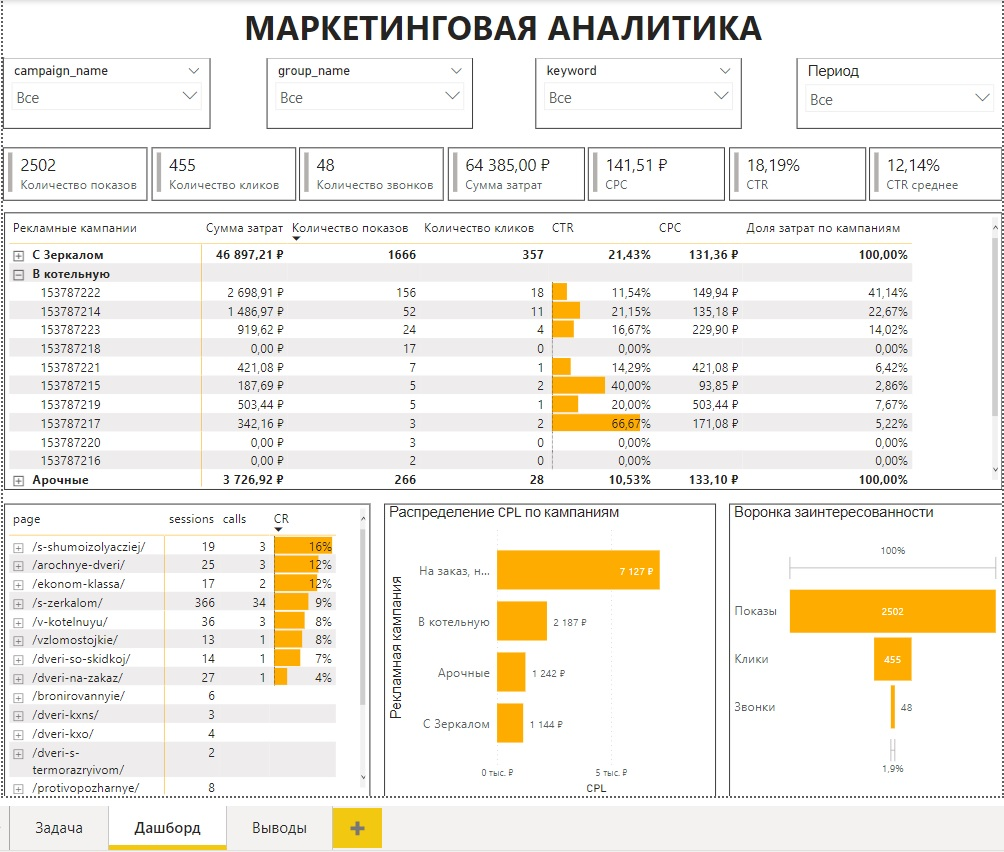

This screenshot's page, from the dashboard's own definition file:
{"tool":"powerbi","page":{"name":"Дашборд","canvas":[1280,1020],"ordinal":1},"visuals":[{"type":"funnel","title":"Воронка заинтересованности","fields":{"Y":["Sum(ads_yandex.impressions)","Sum(ads_yandex.clicks)","ads_yandex.calls_sum"]},"box":[929.7,644.5,350.3,376.1],"z":0},{"type":"multiRowCard","fields":{"Values":["ads_yandex.CTR"]},"box":[930,189.6,175,68.2],"z":1000},{"type":"slicer","fields":{"Values":["campaign_id.campaign_name"]},"box":[0,74.3,265.4,91],"z":2000},{"type":"slicer","fields":{"Values":["group_id.group_name"]},"box":[338.2,74.3,263.9,91],"z":3000},{"type":"slicer","fields":{"Values":["keyword_id.keyword"]},"box":[682.5,74.3,263.9,91],"z":4000},{"type":"slicer","fields":{"Values":["Календарь.Date.Изменение.Иерархия дат.Год","Календарь.Date.Изменение.Иерархия дат.Месяц","Календарь.Date.Изменение.Иерархия дат.День"]},"box":[1016.1,74.3,263.9,91],"z":5000},{"type":"multiRowCard","fields":{"Values":["ads_yandex.CPC"]},"box":[750,189.6,175,68.2],"z":6000},{"type":"multiRowCard","fields":{"Values":["ads_yandex.Сумма затрат"]},"box":[570,189.6,175,68.2],"z":7000},{"type":"multiRowCard","fields":{"Values":["ads_yandex.Количество кликов"]},"box":[190,189.6,185,68.2],"z":8000},{"type":"multiRowCard","fields":{"Values":["ads_yandex.Количество показов"]},"box":[0,189.6,185,68.2],"z":9000},{"type":"pivotTable","fields":{"Values":["ads_yandex.Сумма затрат","ads_yandex.Количество показов","ads_yandex.Количество кликов","ads_yandex.CTR","ads_yandex.CPC","ads_yandex.Сумма затрат разделить на Итог Сумма затрат для campaign_name"],"Rows":["campaign_id.campaign_name","group_id.group_id"]},"box":[1.5,271.5,1278.5,354.9],"z":10000},{"type":"multiRowCard","fields":{"Values":["ads_yandex.В среднем CTR на campaign_id"]},"box":[1110,189.6,170,68.2],"z":11000},{"type":"multiRowCard","fields":{"Values":["ads_yandex.calls_sum"]},"box":[380,189.6,185,68.2],"z":12000},{"type":"pivotTable","fields":{"Rows":["page.page","campaign_id.campaign_name"],"Values":["ads_yandex.sessions_sum","ads_yandex.calls_sum","ads_yandex.CR calls"]},"box":[1.5,644.5,468.6,376.1],"z":13000},{"type":"clusteredBarChart","title":"Распределение CPL по кампаниям","fields":{"Category":["campaign_id.campaign_name"],"Y":["ads_yandex.CPL"]},"box":[488.3,644.5,424.6,376.1],"z":14000},{"type":"textbox","box":[1.5,0,1278.5,74.3],"z":15000}]}

Visuals, with their boxes on the page's 1280x1020 design canvas (x1, y1, x2, y2). These are canvas units, not pixel positions in the 1004x852 screenshot, which may show the page scaled, cropped or inside an application window:
"Воронка заинтересованности" funnel: (left=930, top=644, right=1280, bottom=1021)
multiRowCard - ads_yandex.CTR: (left=930, top=190, right=1105, bottom=258)
slicer - campaign_id.campaign_name: (left=0, top=74, right=265, bottom=165)
slicer - group_id.group_name: (left=338, top=74, right=602, bottom=165)
slicer - keyword_id.keyword: (left=682, top=74, right=946, bottom=165)
slicer - Календарь.Date.Изменение.Иерархия дат.Год x Календарь.Date.Изменение.Иерархия дат.Месяц: (left=1016, top=74, right=1280, bottom=165)
multiRowCard - ads_yandex.CPC: (left=750, top=190, right=925, bottom=258)
multiRowCard - ads_yandex.Сумма затрат: (left=570, top=190, right=745, bottom=258)
multiRowCard - ads_yandex.Количество кликов: (left=190, top=190, right=375, bottom=258)
multiRowCard - ads_yandex.Количество показов: (left=0, top=190, right=185, bottom=258)
pivotTable - ads_yandex.Сумма затрат x ads_yandex.Количество показов: (left=2, top=272, right=1280, bottom=626)
multiRowCard - ads_yandex.В среднем CTR на campaign_id: (left=1110, top=190, right=1280, bottom=258)
multiRowCard - ads_yandex.calls_sum: (left=380, top=190, right=565, bottom=258)
pivotTable - page.page x campaign_id.campaign_name: (left=2, top=644, right=470, bottom=1021)
"Распределение CPL по кампаниям" clusteredBarChart: (left=488, top=644, right=913, bottom=1021)
textbox: (left=2, top=0, right=1280, bottom=74)
